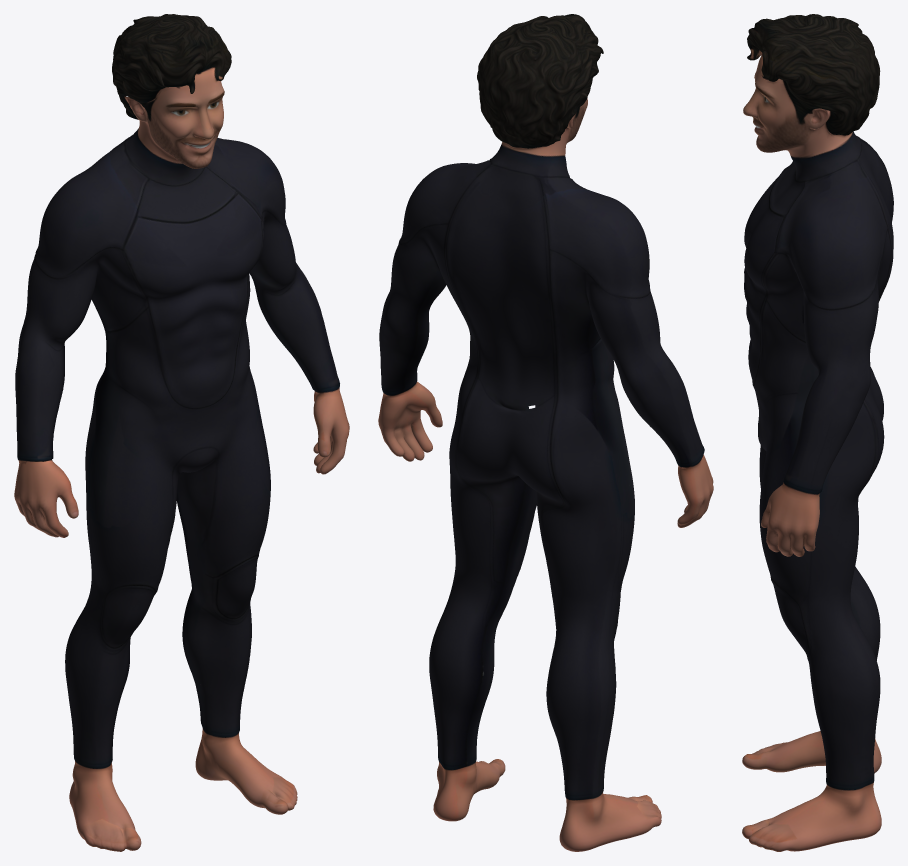
File: surfer-tripo.glb
3 renders of one model, left to right at view 1: azimuth 30°, elevation 25°; view 2: azimuth 150°, elevation 25°; view 3: azimuth 270°, elevation 25°, orthographic.
Parts seen in each view (by area): view 1: tripo_node_86a69efb; view 2: tripo_node_86a69efb; view 3: tripo_node_86a69efb.
Part boxes in pixels (x1,y1,x2,y2): tripo_node_86a69efb: [14, 14, 349, 851]; tripo_node_86a69efb: [378, 14, 713, 851]; tripo_node_86a69efb: [742, 14, 893, 851].
Size of the model in its own units: 0.4197 by 0.9785 by 0.1715.
Materials: 1 (1 with a texture image).
